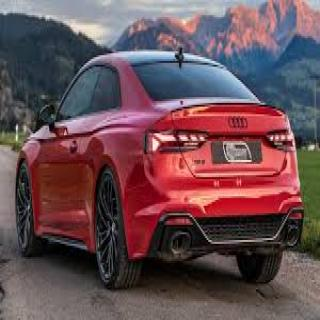Normal_vehicle: (15, 46, 304, 291)
